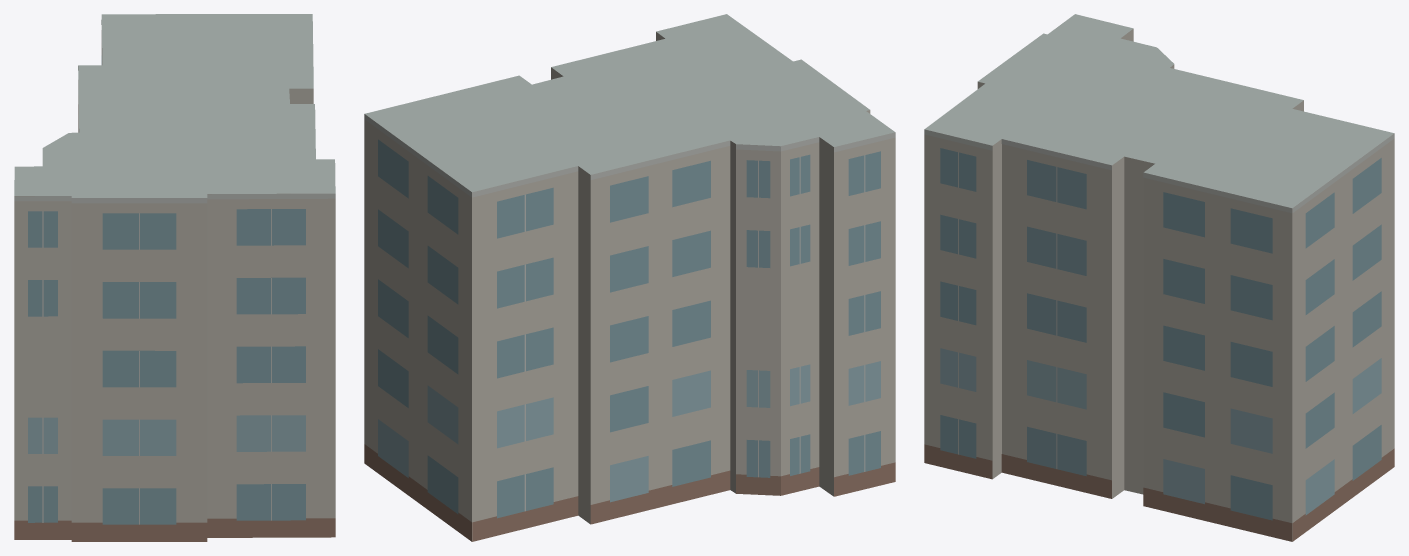
File: survey-upis-32812399.glb
3 renders of one model, left to right at view 1: azimuth 30°, elevation 25°; view 2: azimuth 150°, elevation 25°; view 3: azimuth 270°, elevation 25°, orthographic. The views are drawn at different scales.
Parts seen in each view (by area): view 1: survey-upis-32812399.tmp; view 2: survey-upis-32812399.tmp; view 3: survey-upis-32812399.tmp.
Part boxes in pixels (x1,y1,x2,y2): survey-upis-32812399.tmp: (14, 14, 335, 541); survey-upis-32812399.tmp: (364, 14, 895, 541); survey-upis-32812399.tmp: (924, 14, 1394, 541).
Size of the model in its own units: 19.99 by 16 by 20.45.
